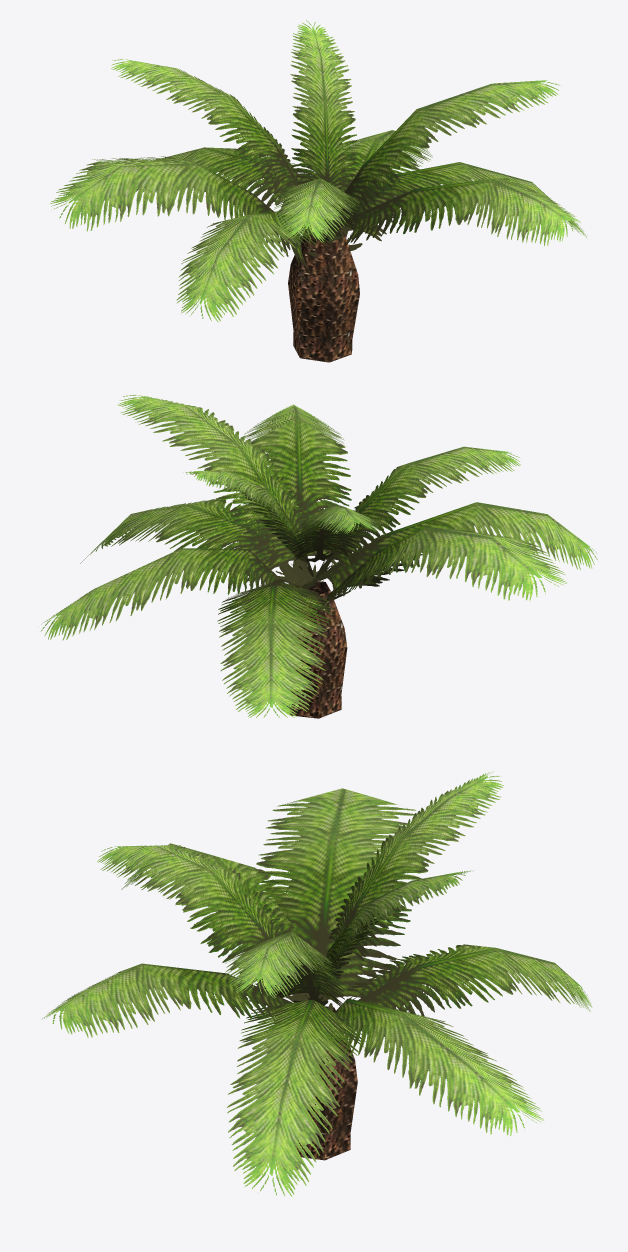
File: tree_b.FBX
3 renders of one model, top to bottom at view 1: azimuth 30°, elevation 25°; view 2: azimuth 150°, elevation 25°; view 3: azimuth 270°, elevation 25°, orthographic. The views are drawn at different scales.
Parts seen in each view (by area): view 1: tree_b; view 2: tree_b; view 3: tree_b.
Part boxes in pixels (x1=…): tree_b: x1=50, y1=20, x2=587, y2=362; tree_b: x1=40, y1=395, x2=598, y2=718; tree_b: x1=42, y1=771, x2=592, y2=1196.
Size of the model in its own units: 3.49 by 1.69 by 2.98.
Materials: 2 (2 with a texture image).
